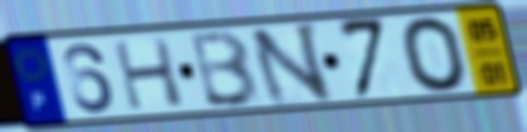6: (61, 41, 117, 115)
7: (336, 15, 391, 104)
B: (188, 27, 263, 109)
H: (109, 35, 188, 113)
N: (245, 19, 336, 109)
O: (397, 14, 471, 96)
